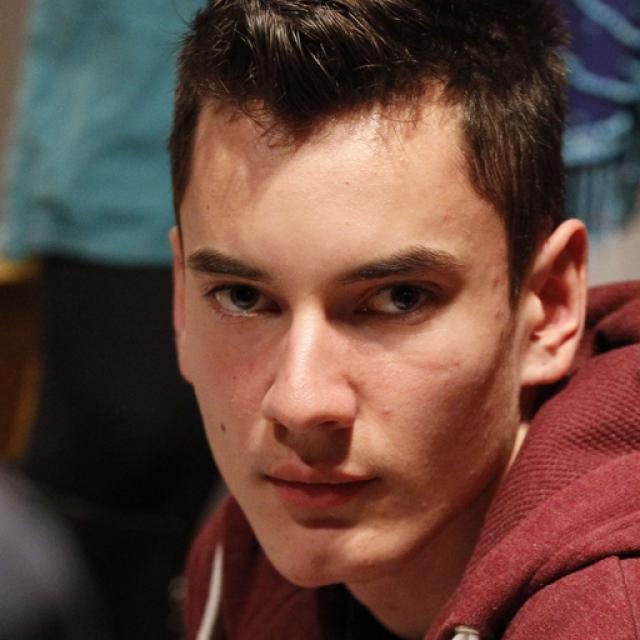neutral: (178, 108, 520, 578)
